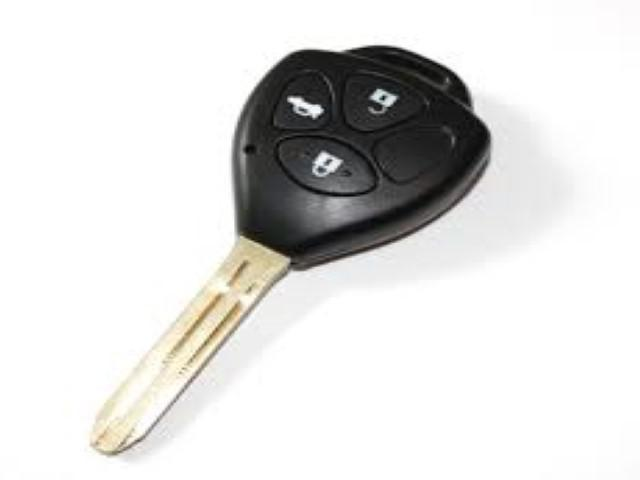key: (86, 43, 492, 480)
